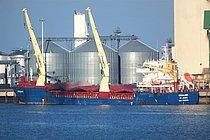Ship: (12, 41, 202, 109)
